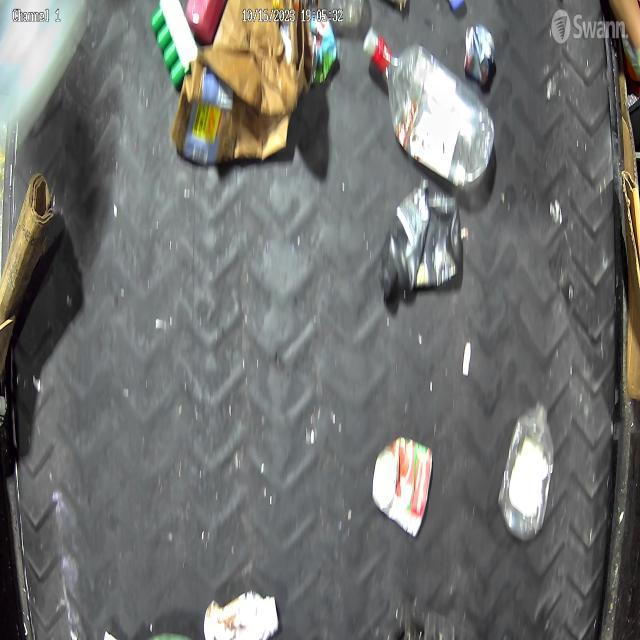can: (370, 436, 436, 538), (464, 22, 496, 85)
non_white_jug: (378, 183, 464, 305)
plastic_bottle: (362, 23, 496, 189), (496, 400, 556, 542)
